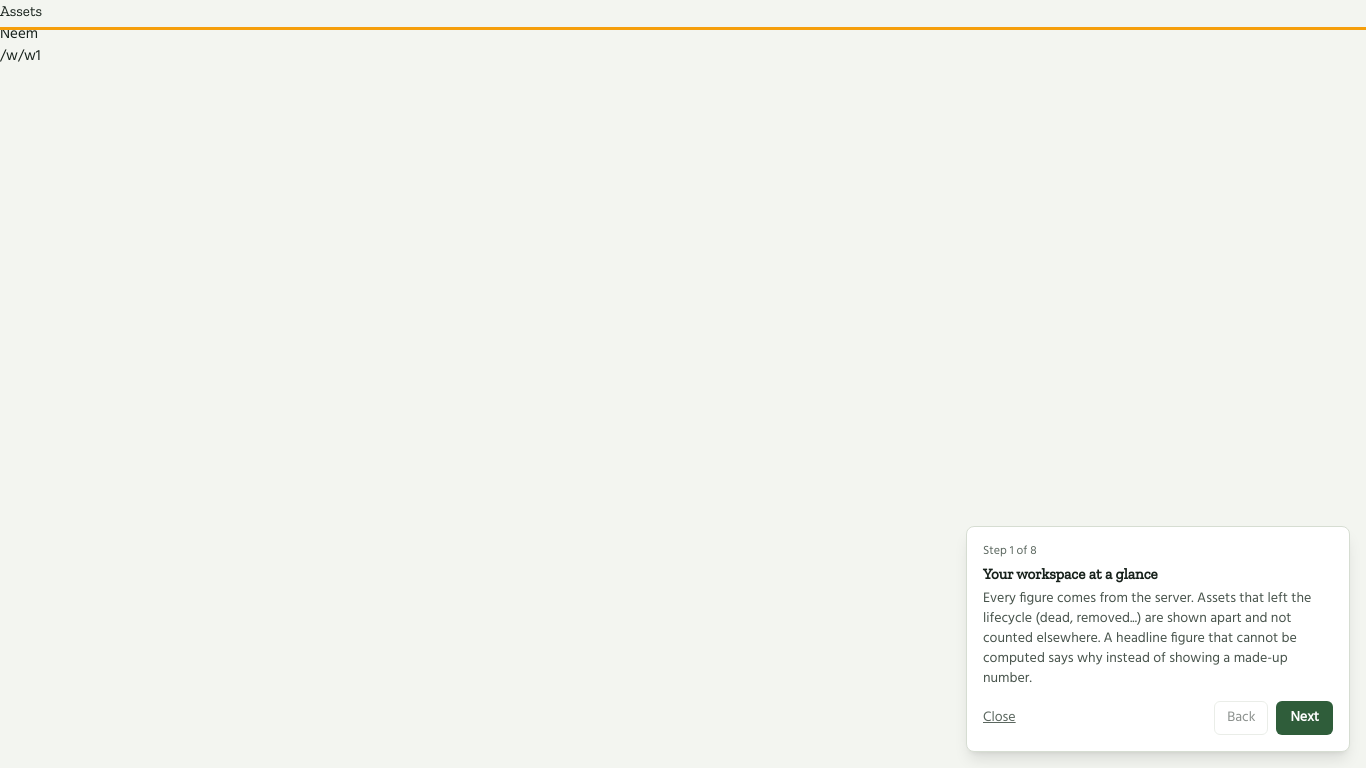
Scenario: tour panel › opens the first asset for asset steps
Click the button "Next" at (1305, 718), box [1276, 701, 1333, 735]
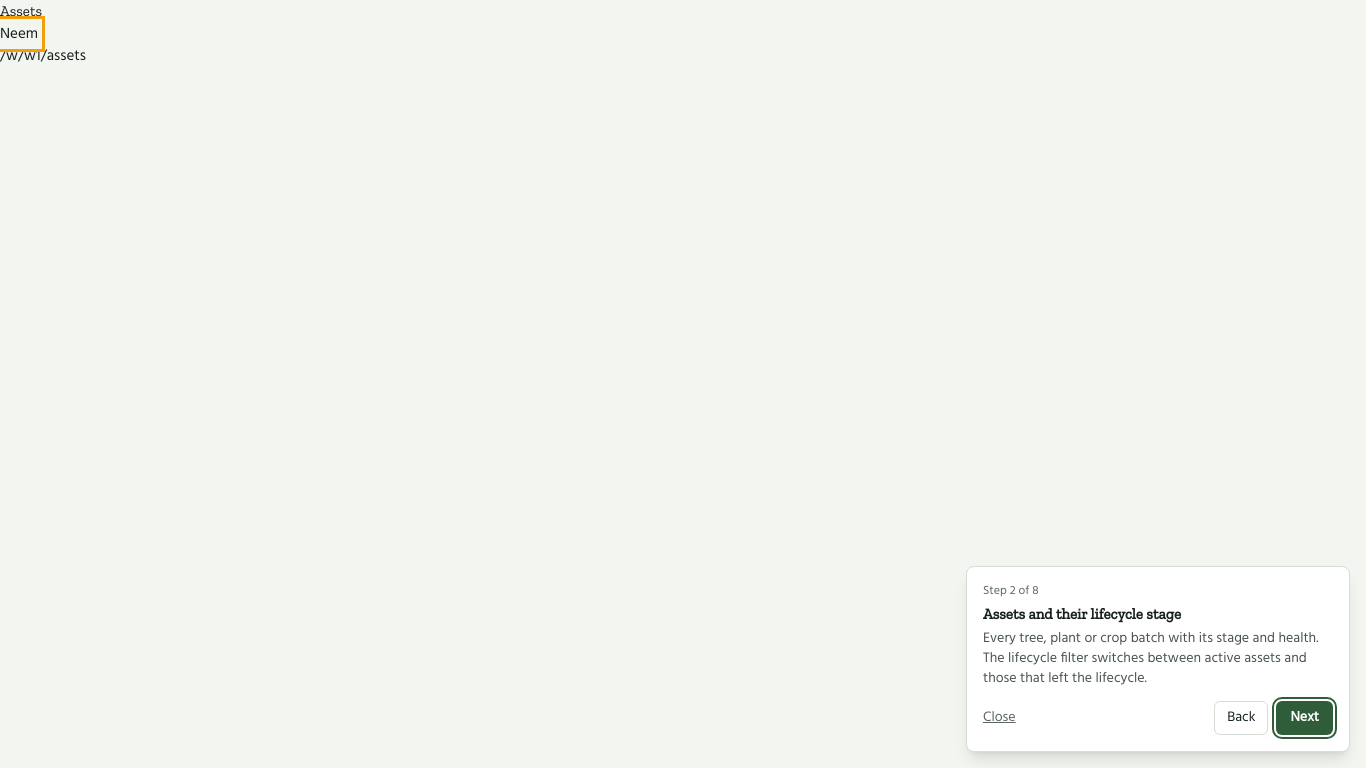
Click the button "Next" at (1305, 718), box [1276, 701, 1333, 735]
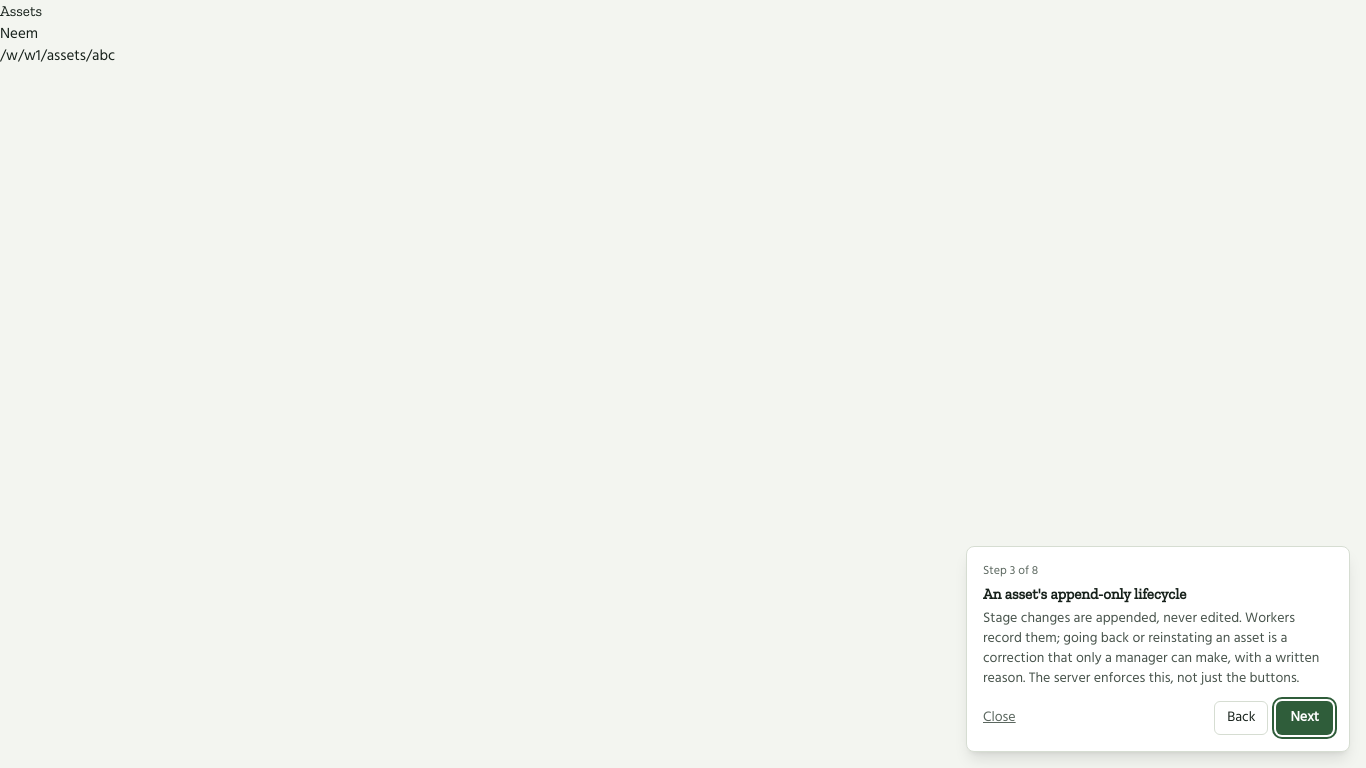
expect the text with test id "where" reads "/w/w1/assets/abc": met, box [0, 44, 115, 68]
